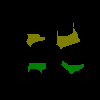mutande: (61, 60, 84, 74), (28, 63, 46, 73)
reggiseno: (56, 23, 80, 49), (26, 33, 45, 47)
